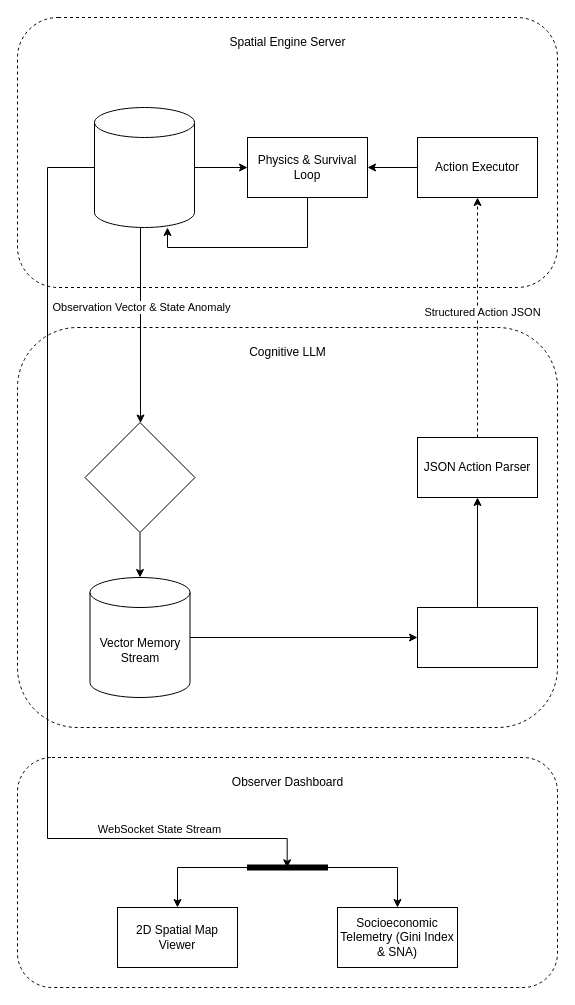
Some shapes in this 575 by 1005 pixel diagram are drawn without their labels. The shapes that lost their labels are listed below. From the top down, each one's box as (x1, y1, x2, y2) in pixels, then its label:
(94, 106, 194, 228): Global State Matrix (S t )
(84, 422, 195, 532): Event Trigger Mechanism
(416, 606, 538, 668): Large Language Model (Inference)
